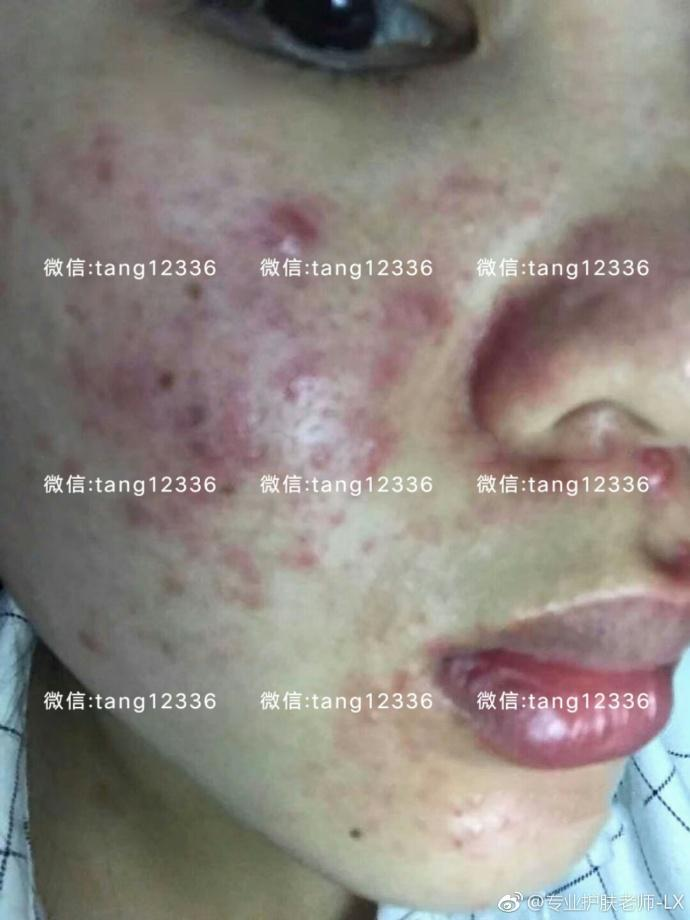fore: (284, 425, 349, 489), (172, 503, 223, 570), (394, 635, 441, 707), (49, 621, 115, 666), (394, 278, 445, 336), (355, 401, 404, 460), (78, 105, 133, 156), (106, 346, 151, 405), (82, 150, 141, 195), (221, 429, 276, 476), (168, 274, 216, 325), (274, 358, 323, 407), (155, 558, 200, 611), (219, 572, 265, 623), (186, 438, 231, 489), (61, 338, 104, 389), (27, 164, 72, 209), (637, 444, 678, 493), (286, 525, 325, 576), (219, 525, 259, 574), (245, 301, 292, 342), (49, 438, 90, 484), (316, 501, 361, 540), (141, 356, 190, 391), (115, 480, 153, 525), (223, 389, 267, 427), (172, 385, 210, 425), (367, 340, 398, 389), (270, 191, 298, 242), (445, 172, 474, 205)
